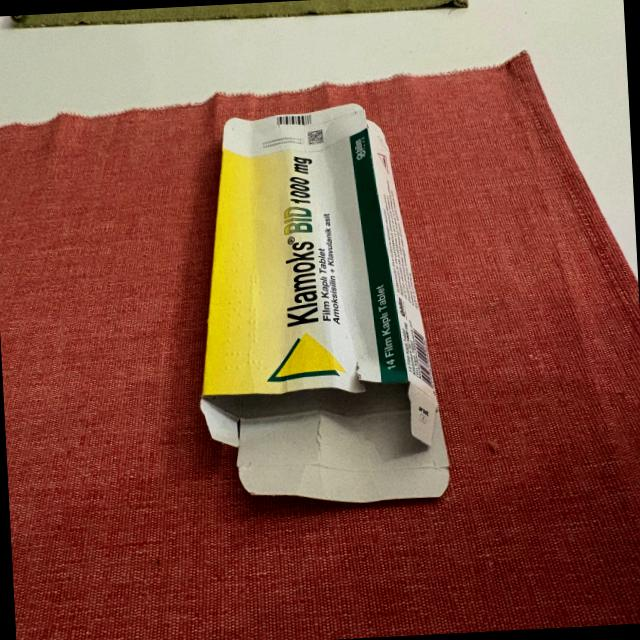damaged_package: (182, 98, 454, 511)
